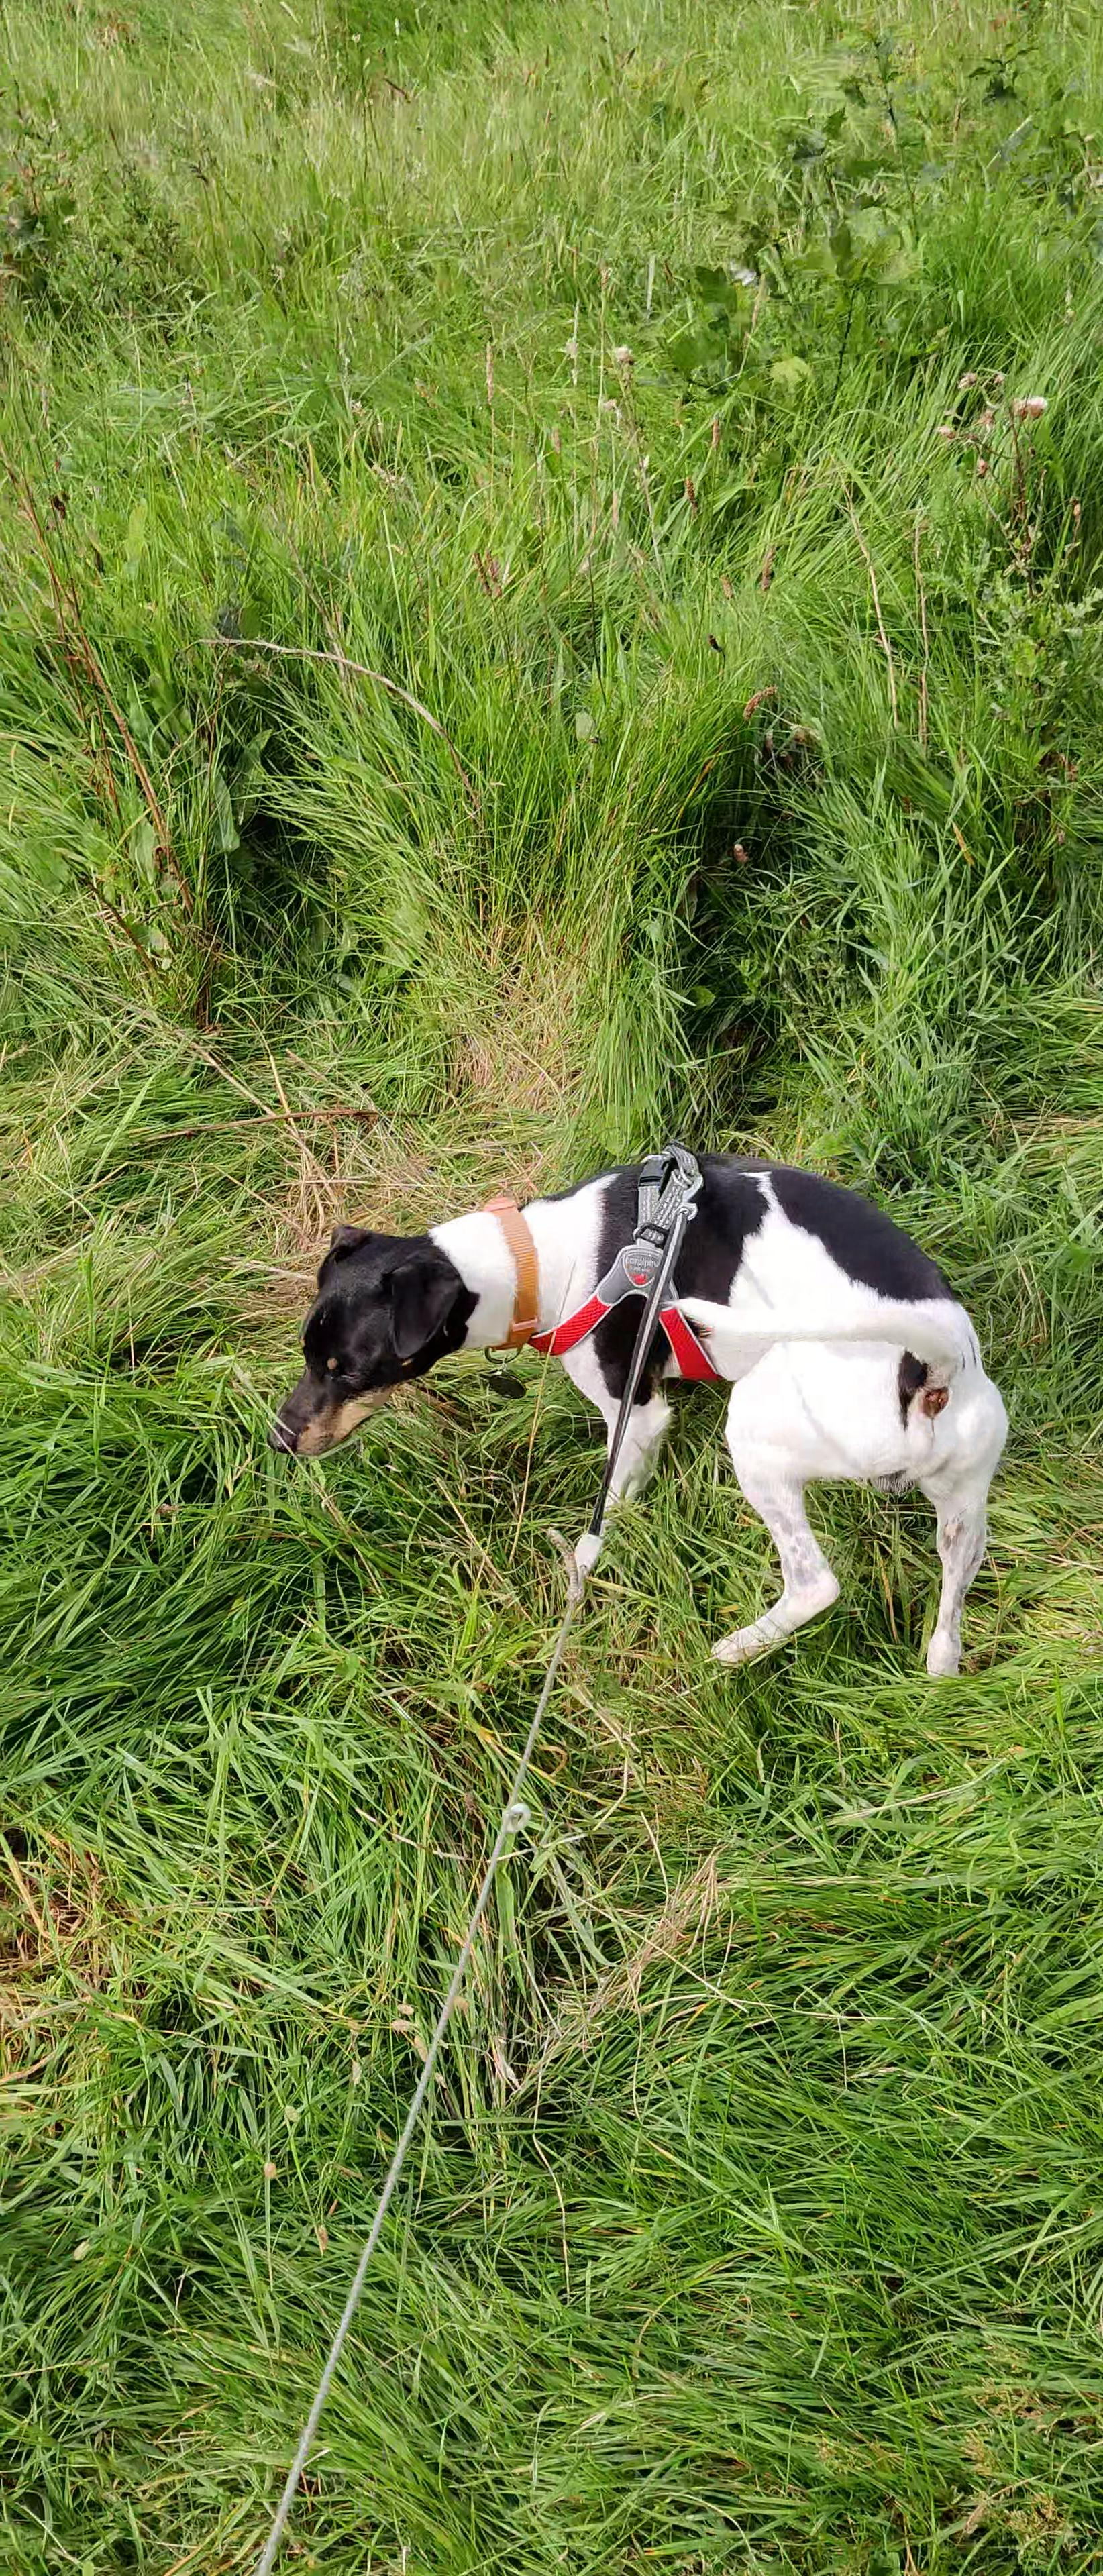Dog: (260, 1140, 1016, 1686)
